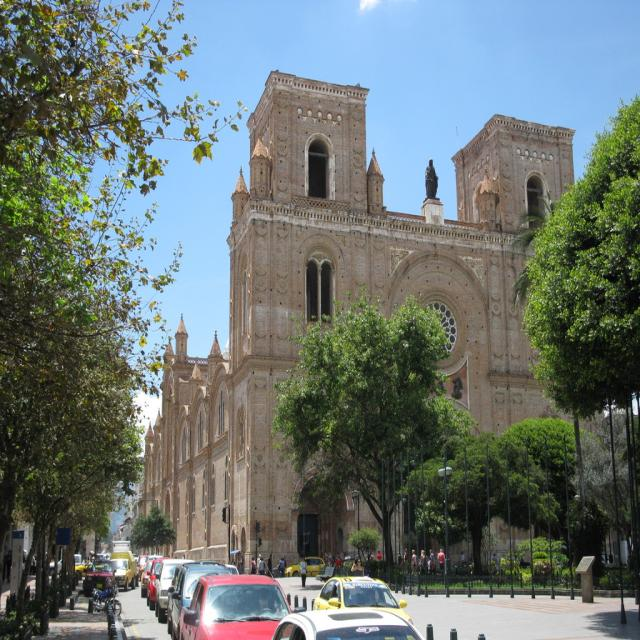car: (306, 578, 403, 627)
